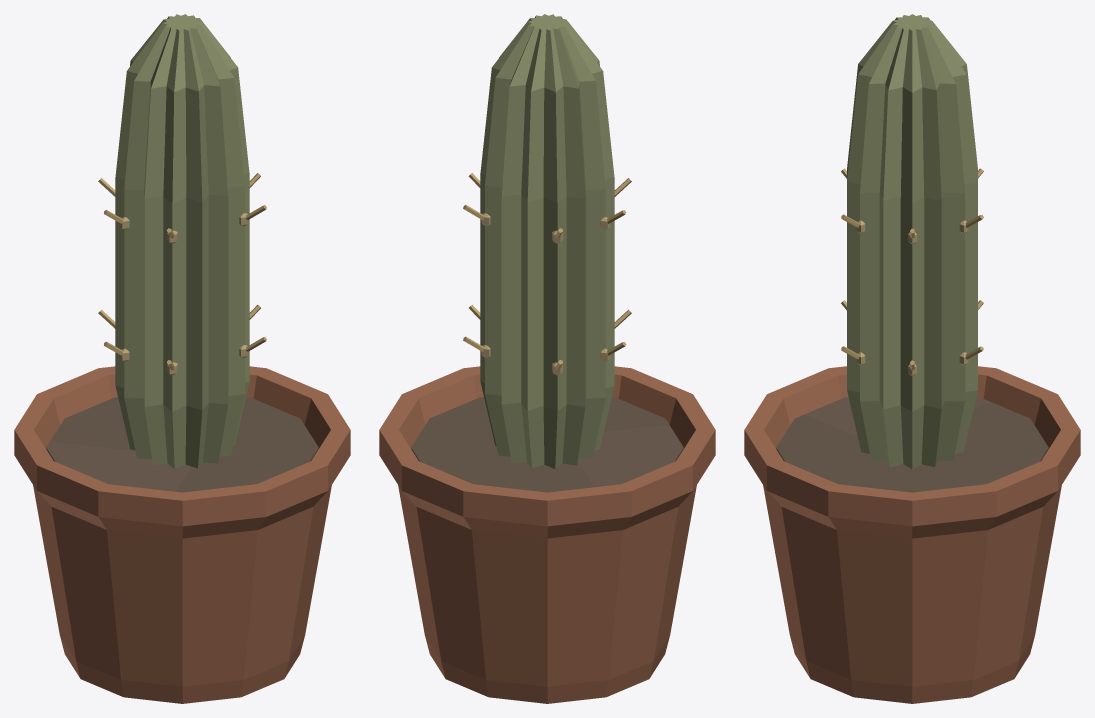
The model's file is new-lenninghausii.glb.
The picture shows the model from 3 angles, left to right: view 1: azimuth 30°, elevation 25°; view 2: azimuth 150°, elevation 25°; view 3: azimuth 270°, elevation 25°; orthographic projection.
Parts seen in each view (by area): view 1: new-lenninghausii/review-terra-vessel, new-lenninghausii/ribbed-stem-001, new-lenninghausii/review-rooted-soil; view 2: new-lenninghausii/review-terra-vessel, new-lenninghausii/ribbed-stem-001, new-lenninghausii/review-rooted-soil; view 3: new-lenninghausii/review-terra-vessel, new-lenninghausii/ribbed-stem-001, new-lenninghausii/review-rooted-soil.
Boxes of the visible parts, bbox=[...] form: new-lenninghausii/review-terra-vessel: bbox=[14, 366, 350, 703]; new-lenninghausii/ribbed-stem-001: bbox=[115, 14, 249, 469]; new-lenninghausii/review-rooted-soil: bbox=[46, 397, 318, 492]; new-lenninghausii/review-terra-vessel: bbox=[379, 366, 715, 703]; new-lenninghausii/ribbed-stem-001: bbox=[480, 14, 614, 469]; new-lenninghausii/review-rooted-soil: bbox=[411, 397, 683, 492]; new-lenninghausii/review-terra-vessel: bbox=[744, 366, 1080, 703]; new-lenninghausii/ribbed-stem-001: bbox=[847, 14, 977, 469]; new-lenninghausii/review-rooted-soil: bbox=[776, 397, 1048, 492].
Size of the model in its own units: 0.19 by 0.394 by 0.19.
Materials: 5 (5 with a texture image).
